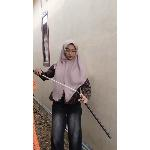Pedang: (34, 68, 80, 92)
